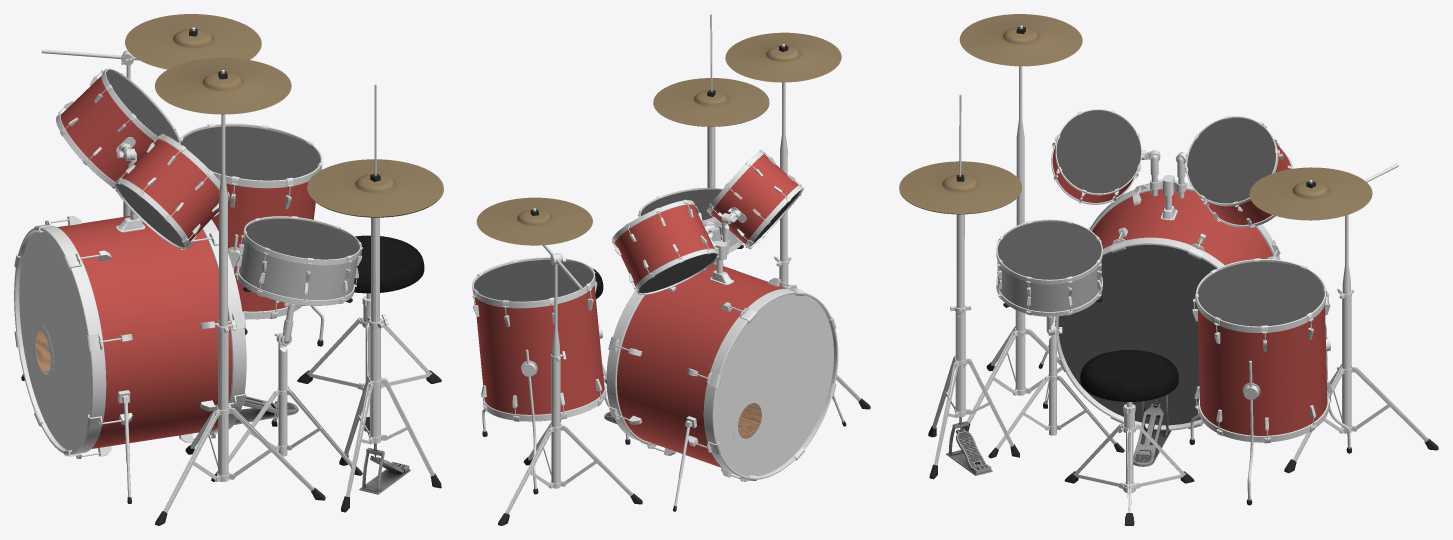
Rendered from drum set.glb.
The picture shows the model from 3 angles, left to right: view 1: azimuth 30°, elevation 25°; view 2: azimuth 150°, elevation 25°; view 3: azimuth 270°, elevation 25°; orthographic projection. The views are drawn at different scales.
Parts seen in each view (by area): view 1: Drumkit06, Drumkit02HiHat01, Drumkit02Stool01; view 2: Drumkit06, Drumkit02HiHat01; view 3: Drumkit06, Drumkit02HiHat01, Drumkit02Stool01.
Boxes of the visible parts, box(x1,y1,x2,y2) form: Drumkit06: box(14, 14, 362, 525); Drumkit02HiHat01: box(307, 84, 443, 512); Drumkit02Stool01: box(297, 235, 441, 431); Drumkit06: box(472, 32, 870, 525); Drumkit02HiHat01: box(653, 14, 769, 187); Drumkit06: box(959, 14, 1438, 505); Drumkit02HiHat01: box(899, 94, 1021, 479); Drumkit02Stool01: box(1064, 350, 1194, 525).
Size of the model in its own units: 3.43 by 3.7 by 4.76.
10 materials, 4 textured.
